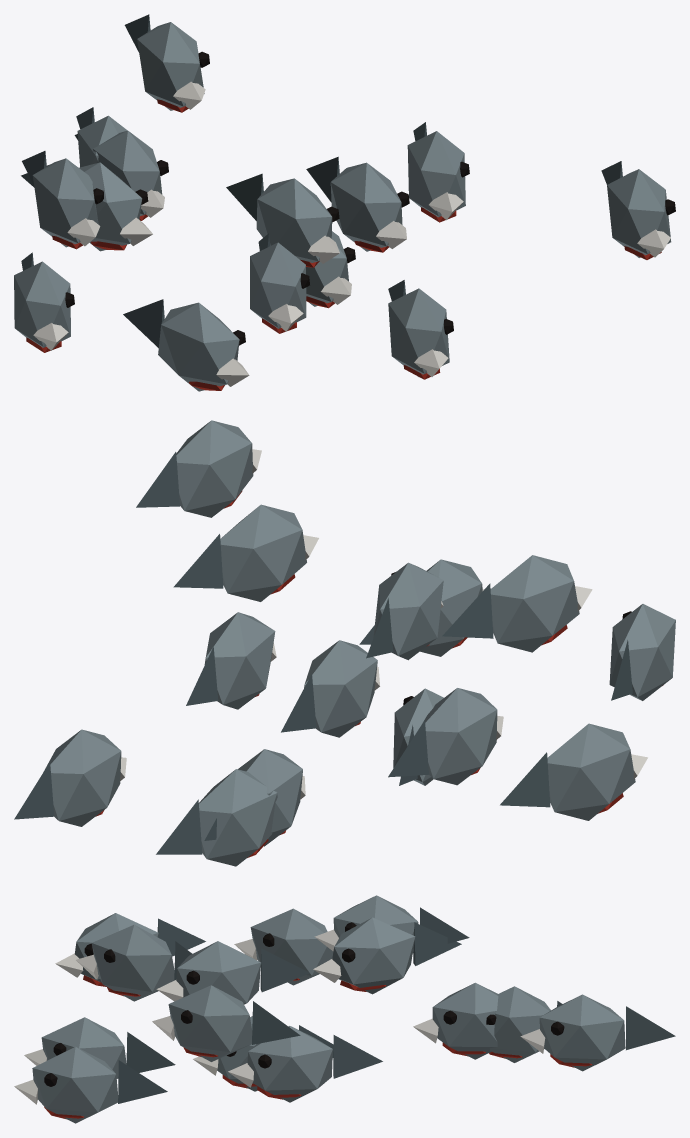
Rendered from beast_piranha_swarm.glb.
The picture shows the model from 3 angles, top to bottom: view 1: azimuth 30°, elevation 25°; view 2: azimuth 150°, elevation 25°; view 3: azimuth 270°, elevation 25°; orthographic projection. The views are drawn at different scales.
Parts seen in each view (by area): view 1: beast_piranha_swarm; view 2: beast_piranha_swarm; view 3: beast_piranha_swarm.
Boxes of the visible parts, box(x1,y1,x2,y2) form: beast_piranha_swarm: box(14, 14, 675, 391); beast_piranha_swarm: box(14, 420, 675, 866); beast_piranha_swarm: box(14, 895, 675, 1123).
Bounding box in the file's own units: 1.67 × 0.521 × 2.12.
